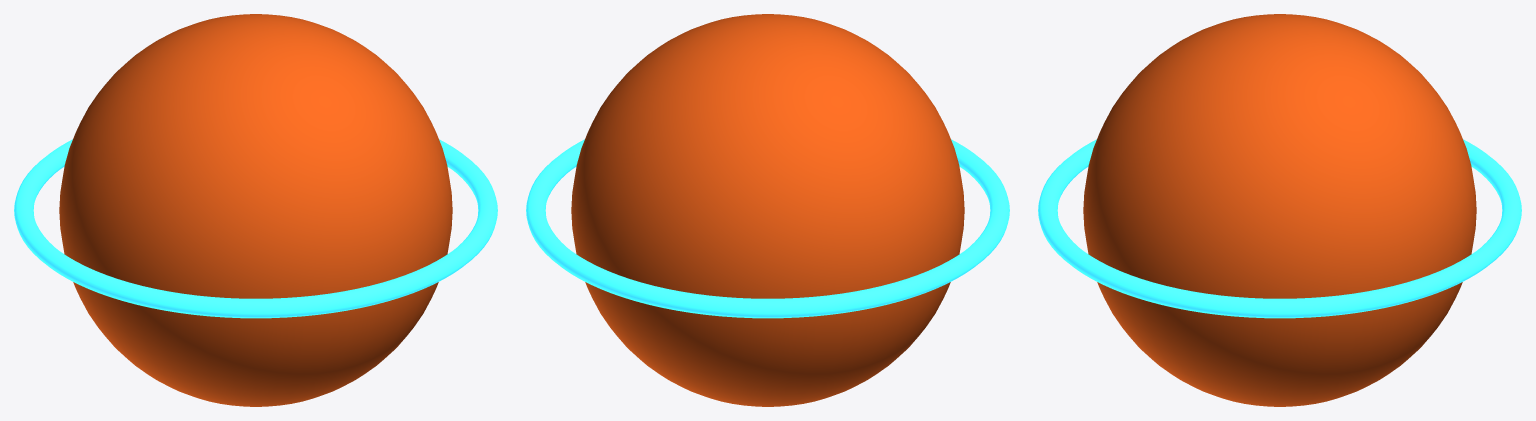
The model's file is orb.gltf.
3 renders of one model, left to right at view 1: azimuth 30°, elevation 25°; view 2: azimuth 150°, elevation 25°; view 3: azimuth 270°, elevation 25°, orthographic.
Visible parts, largest first — view 1: Body, Band; view 2: Body, Band; view 3: Body, Band.
Boxes of the visible parts, left/top/right/bottom form: Body: left=59, top=14, right=452, bottom=406; Band: left=14, top=139, right=497, bottom=318; Body: left=571, top=14, right=964, bottom=406; Band: left=526, top=139, right=1009, bottom=318; Body: left=1083, top=14, right=1476, bottom=406; Band: left=1038, top=139, right=1521, bottom=318.
Bounding box in the file's own units: 2.46 × 2 × 2.46.
